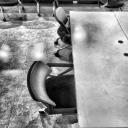chair_fail: (24, 59, 77, 117), (53, 6, 71, 58)
